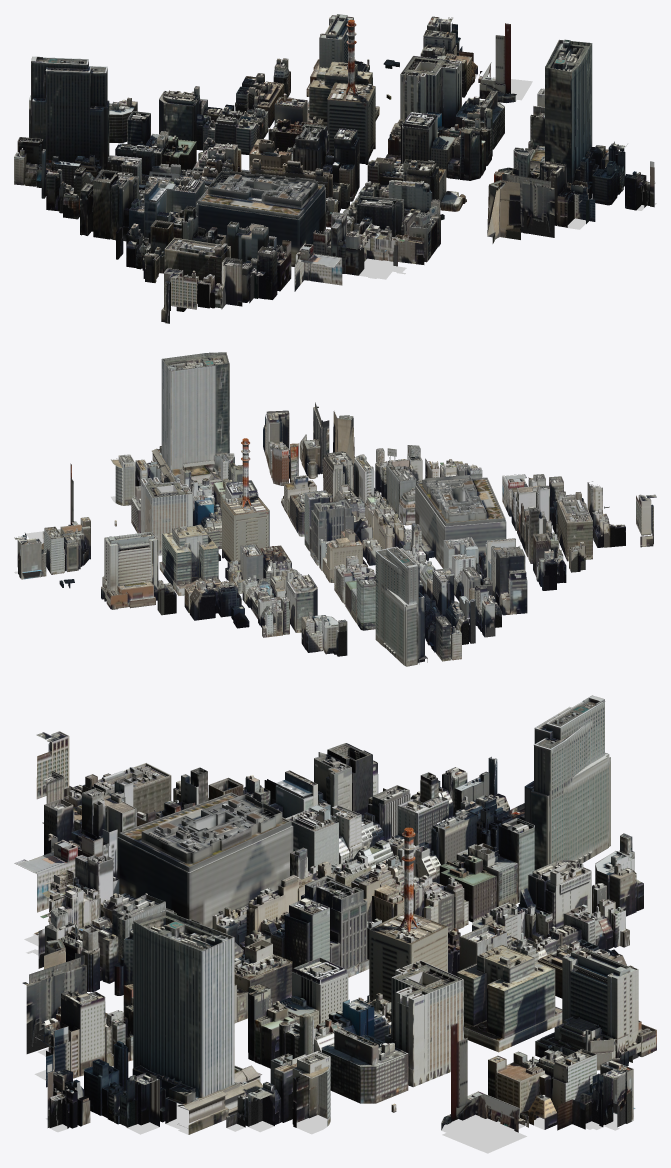
The model's file is 53394601a_bldg_6677.fbx.
3 views of the same model, one above another, from view 1: azimuth 30°, elevation 25°; view 2: azimuth 150°, elevation 25°; view 3: azimuth 270°, elevation 25° (orthographic). The views are drawn at different scales.
Visible parts, largest first — view 1: plateau_merged.225, plateau_merged.273, plateau_merged.348, plateau_merged.033, plateau_merged.008, plateau_merged.222, plateau_merged.175, plateau_merged.018, plateau_merged.084, plateau_merged.243, plateau_merged.063, plateau_merged.148 (+58 smaller); view 2: plateau_merged.348, plateau_merged.273, plateau_merged.225, plateau_merged.063, plateau_merged.243, plateau_merged.008, plateau_merged.033, plateau_merged.222, plateau_merged.197, plateau_merged.084, plateau_merged.035, plateau_merged.045 (+35 smaller); view 3: plateau_merged.348, plateau_merged.273, plateau_merged.225, plateau_merged.063, plateau_merged.243, plateau_merged.033, plateau_merged.008, plateau_merged.029, plateau_merged, plateau_merged.197, plateau_merged.175, plateau_merged.084 (+57 smaller).
Part boxes in pixels (bbox=[...]): plateau_merged.225: bbox=[29, 56, 109, 169]; plateau_merged.273: bbox=[196, 171, 325, 266]; plateau_merged.348: bbox=[525, 39, 608, 183]; plateau_merged.033: bbox=[400, 55, 461, 128]; plateau_merged.008: bbox=[327, 19, 375, 164]; plateau_merged.222: bbox=[164, 237, 230, 286]; plateau_merged.175: bbox=[502, 174, 554, 237]; plateau_merged.018: bbox=[487, 180, 520, 243]; plateau_merged.084: bbox=[159, 86, 201, 141]; plateau_merged.243: bbox=[307, 61, 379, 130]; plateau_merged.063: bbox=[306, 14, 372, 96]; plateau_merged.148: bbox=[401, 112, 437, 163]; plateau_merged.348: bbox=[151, 352, 229, 494]; plateau_merged.273: bbox=[415, 475, 506, 568]; plateau_merged.225: bbox=[375, 546, 427, 666]; plateau_merged.063: bbox=[101, 531, 158, 609]; plateau_merged.243: bbox=[159, 524, 220, 595]; plateau_merged.008: bbox=[222, 438, 269, 561]; plateau_merged.033: bbox=[141, 477, 192, 555]; plateau_merged.222: bbox=[557, 492, 592, 561]; plateau_merged.197: bbox=[310, 499, 353, 565]; plateau_merged.084: bbox=[287, 571, 317, 632]; plateau_merged.035: bbox=[325, 528, 367, 582]; plateau_merged.045: bbox=[323, 451, 353, 501]; plateau_merged.348: bbox=[128, 911, 262, 1134]; plateau_merged.273: bbox=[117, 792, 293, 928]; plateau_merged.225: bbox=[524, 695, 610, 869]; plateau_merged.063: bbox=[535, 947, 656, 1070]; plateau_merged.243: bbox=[456, 944, 562, 1052]; plateau_merged.033: bbox=[385, 960, 463, 1087]; plateau_merged.008: bbox=[369, 827, 447, 1001]; plateau_merged.029: bbox=[321, 1028, 408, 1103]; plateau_merged: bbox=[24, 933, 619, 1153]; plateau_merged.197: bbox=[301, 875, 369, 977]; plateau_merged.175: bbox=[22, 953, 86, 1053]; plateau_merged.084: bbox=[528, 860, 591, 929].
Size of the model in its own units: 63641 by 15479 by 48764.
Materials: 402 (402 with a texture image).
